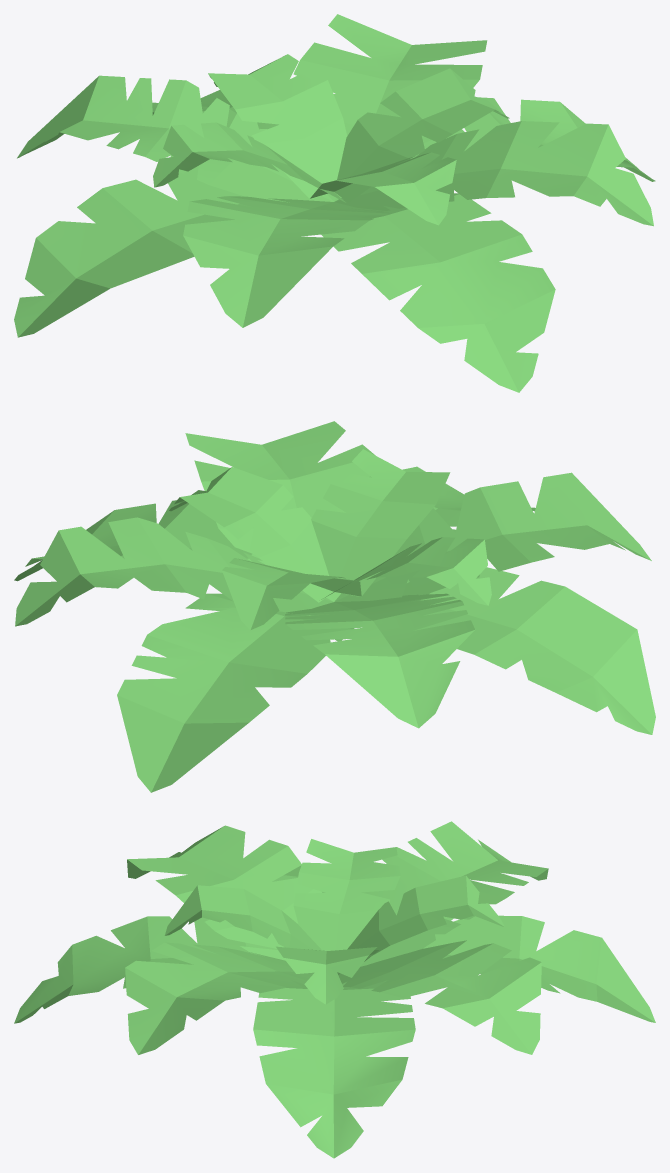
Rendered from Arbusto1.fbx.
3 views of the same model, one above another, from view 1: azimuth 30°, elevation 25°; view 2: azimuth 150°, elevation 25°; view 3: azimuth 270°, elevation 25° (orthographic). The views are drawn at different scales.
Parts seen in each view (by area): view 1: Arbusto1; view 2: Arbusto1; view 3: Arbusto1.
Boxes of the visible parts, x1,y1,x2,y2 form: Arbusto1: (14,14,655,392); Arbusto1: (14,421,655,792); Arbusto1: (14,821,655,1158).
Bounding box in the file's own units: 203 × 43.83 × 203.
